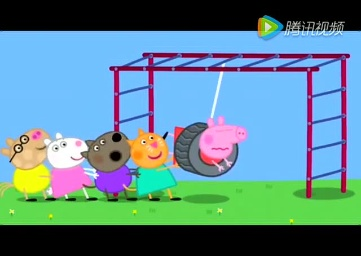Peppa: (169, 117, 249, 174)
